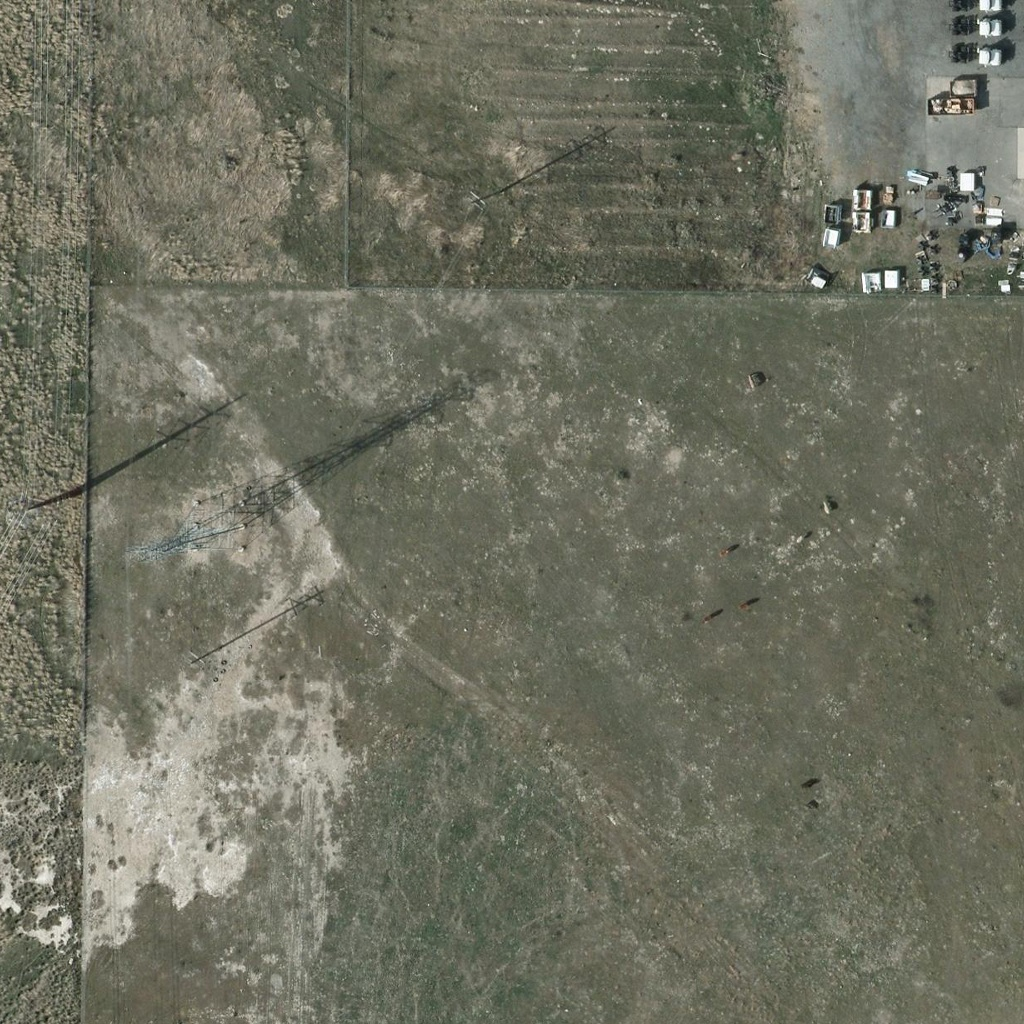truck: (947, 45, 1001, 66), (947, 14, 1001, 35), (947, 1, 1003, 10)
